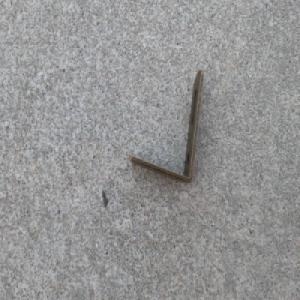MetalPart: (129, 68, 205, 185)
